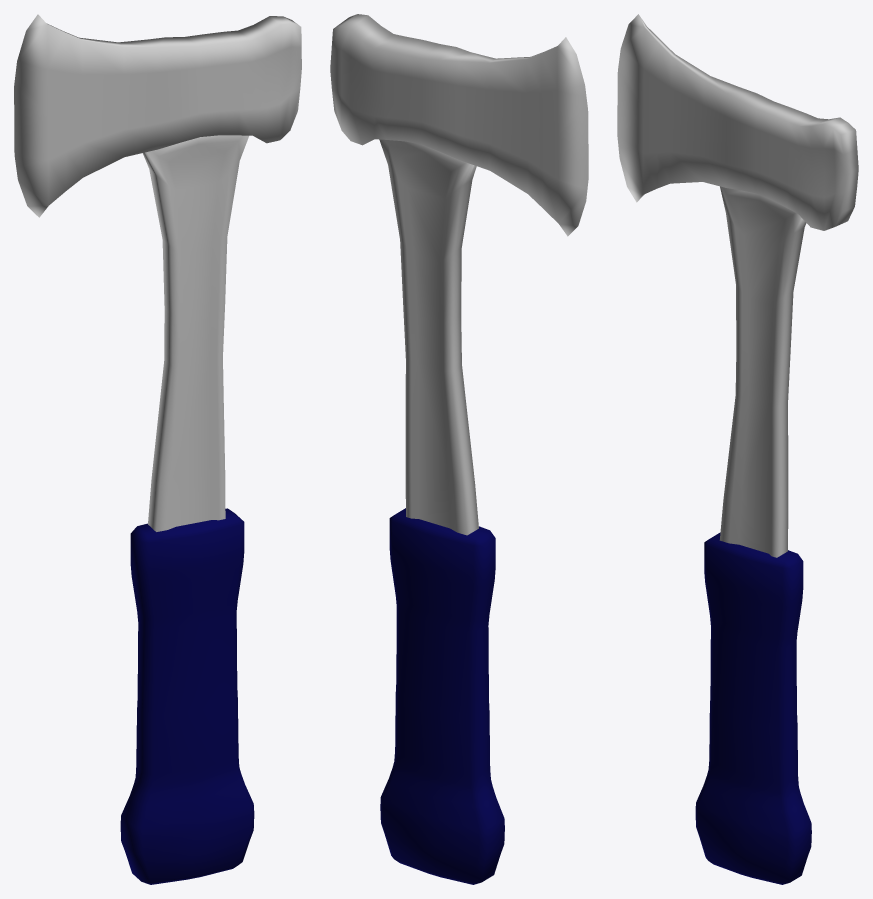
File: Axe.obj
The picture shows the model from 3 angles, left to right: view 1: azimuth 30°, elevation 25°; view 2: azimuth 150°, elevation 25°; view 3: azimuth 330°, elevation 25°; orthographic projection. The views are drawn at different scales.
Parts seen in each view (by area): view 1: toolsFBXASC046axe; view 2: toolsFBXASC046axe; view 3: toolsFBXASC046axe.
Boxes of the visible parts, left/top/right/bottom form: toolsFBXASC046axe: left=14, top=14, right=301, bottom=884; toolsFBXASC046axe: left=330, top=14, right=588, bottom=884; toolsFBXASC046axe: left=617, top=14, right=858, bottom=884.
Size of the model in its own units: 37.51 by 117 by 6.6.
